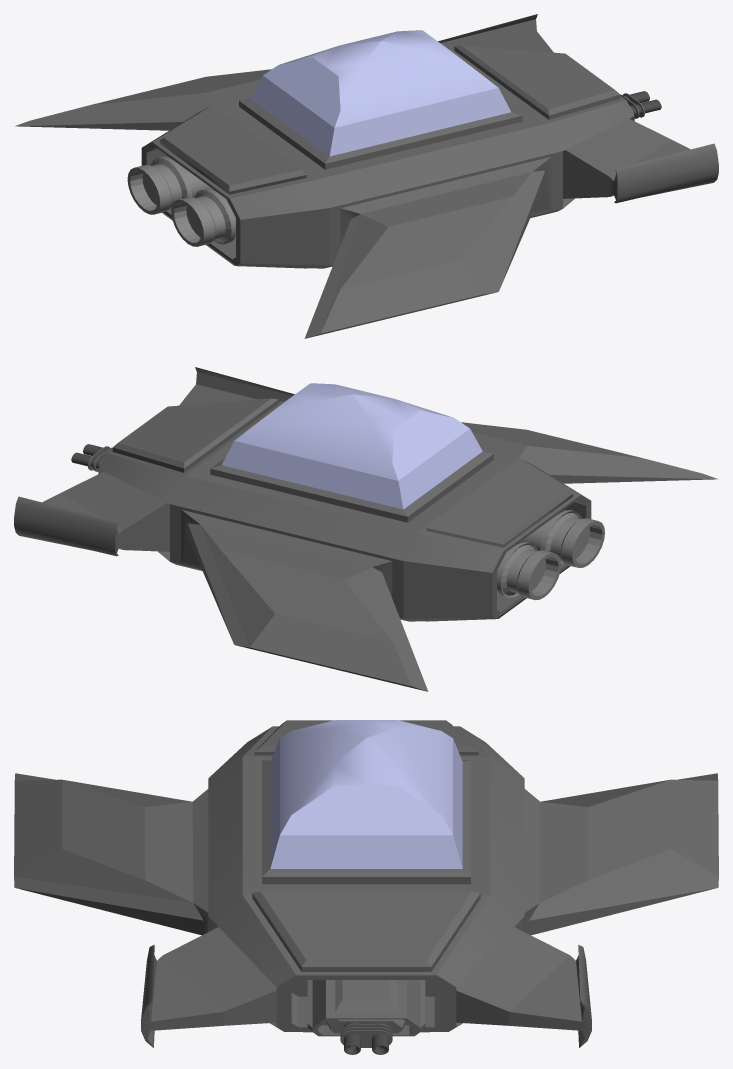
File: Spaceship.fbx
The picture shows the model from 3 angles, top to bottom: view 1: azimuth 30°, elevation 25°; view 2: azimuth 150°, elevation 25°; view 3: azimuth 270°, elevation 25°; orthographic projection. The views are drawn at different scales.
Visible parts, largest first — view 1: polySurface27; view 2: polySurface27; view 3: polySurface27.
Part boxes in pixels (x1,y1,x2,y2): polySurface27: [15, 14, 718, 338]; polySurface27: [14, 367, 717, 691]; polySurface27: [14, 720, 718, 1054].
Bounding box in the file's own units: 16.48 × 5.32 × 16.87.
